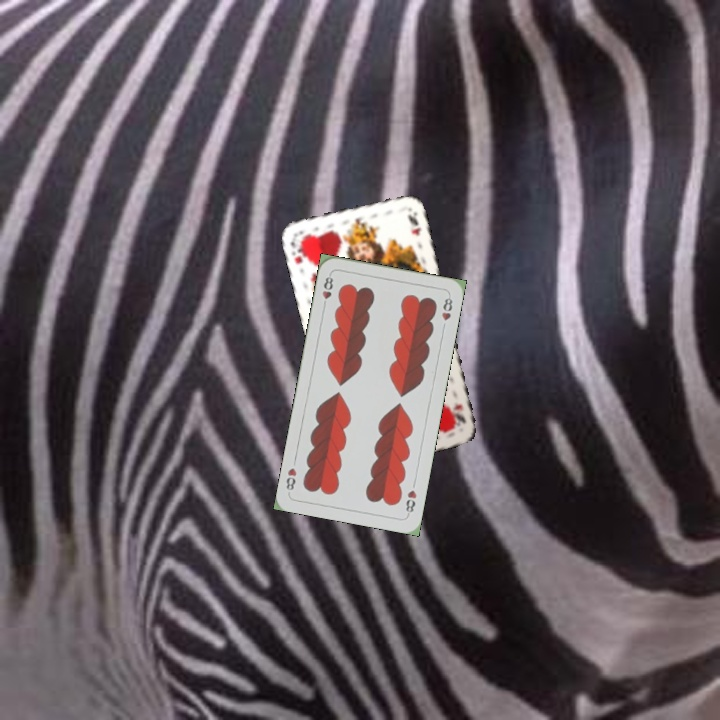H8: (318, 270, 336, 310), (402, 486, 419, 518)
HK: (287, 233, 308, 267), (450, 399, 469, 426)
